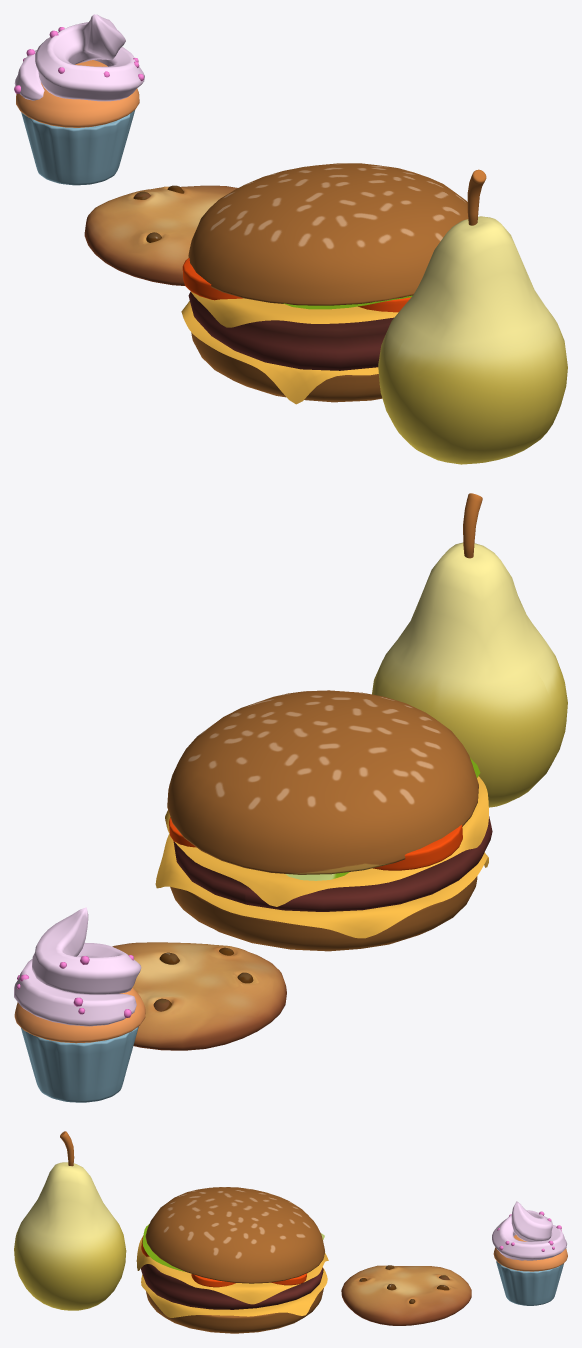
The model's file is Edible Scale1 (2).fbx.
3 views of the same model, one above another, from view 1: azimuth 30°, elevation 25°; view 2: azimuth 150°, elevation 25°; view 3: azimuth 270°, elevation 25° (orthographic). The views are drawn at different scales.
Visible parts, largest first — view 1: Burger, Pear, Cupcake, Cookie; view 2: Burger, Pear, Cupcake, Cookie; view 3: Burger, Pear, Cookie, Cupcake.
Part boxes in pixels (bbox=[...]): Burger: bbox=[181, 163, 468, 404]; Pear: bbox=[378, 169, 567, 464]; Cupcake: bbox=[14, 14, 144, 185]; Cookie: bbox=[84, 185, 237, 285]; Burger: bbox=[155, 690, 492, 951]; Pear: bbox=[372, 493, 567, 807]; Cupcake: bbox=[14, 907, 145, 1102]; Cookie: bbox=[112, 942, 286, 1050]; Burger: bbox=[136, 1187, 328, 1333]; Pear: bbox=[14, 1131, 126, 1310]; Cookie: bbox=[341, 1265, 471, 1325]; Cupcake: bbox=[492, 1201, 567, 1305].
Size of the model in its own units: 2.01 by 2.04 by 5.98.
4 materials, 4 textured.
